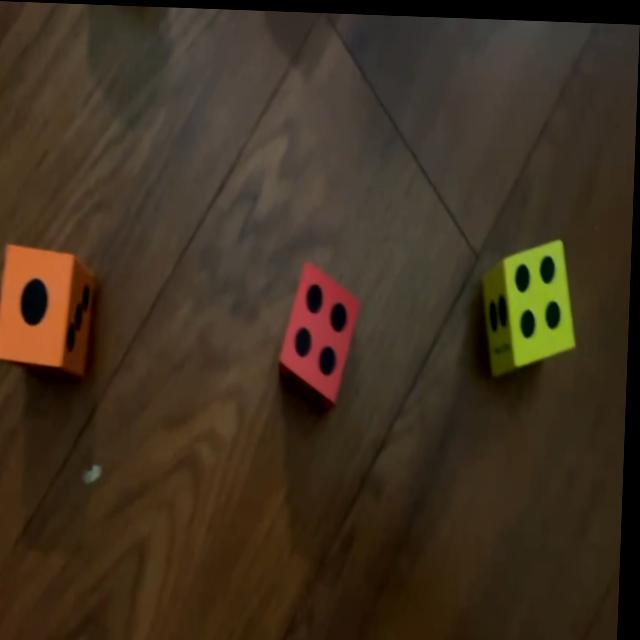cube: (281, 259, 364, 403)
